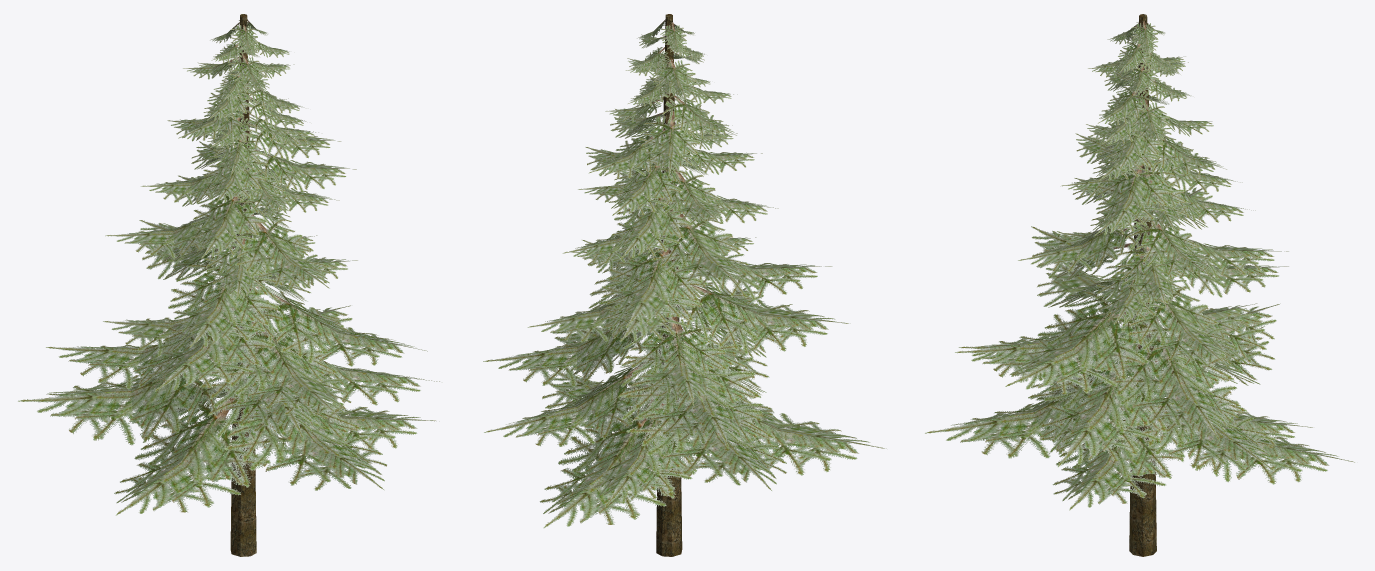
File: TreeB.fbx
The picture shows the model from 3 angles, left to right: view 1: azimuth 30°, elevation 25°; view 2: azimuth 150°, elevation 25°; view 3: azimuth 270°, elevation 25°; orthographic projection.
Parts seen in each view (by area): view 1: Leaves, Trunk; view 2: Leaves, Trunk; view 3: Leaves, Trunk.
Boxes of the visible parts, box(x1,y1,x2,y2) form: Leaves: box(18, 19, 439, 515); Trunk: box(230, 14, 256, 556); Leaves: box(483, 19, 886, 528); Trunk: box(656, 14, 682, 556); Leaves: box(925, 21, 1354, 510); Trunk: box(1129, 14, 1156, 556).
Size of the model in its own units: 2994 by 4276 by 3193.
